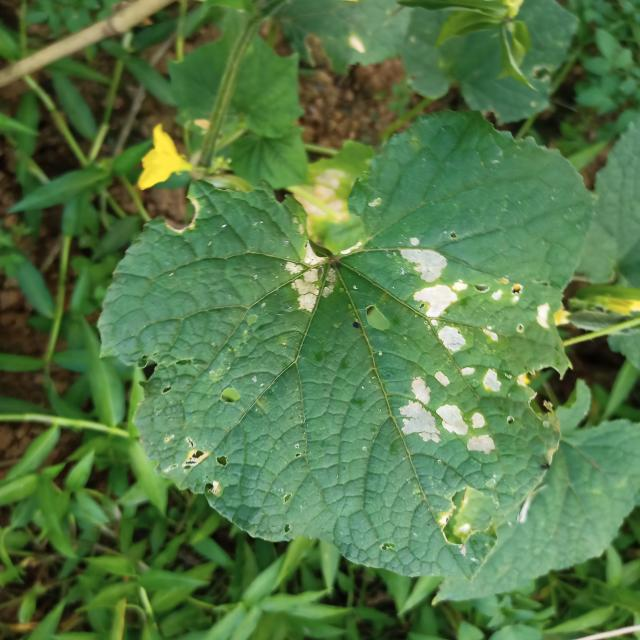disease_cucumber: (388, 233, 556, 365), (378, 363, 518, 469), (275, 237, 344, 318)
